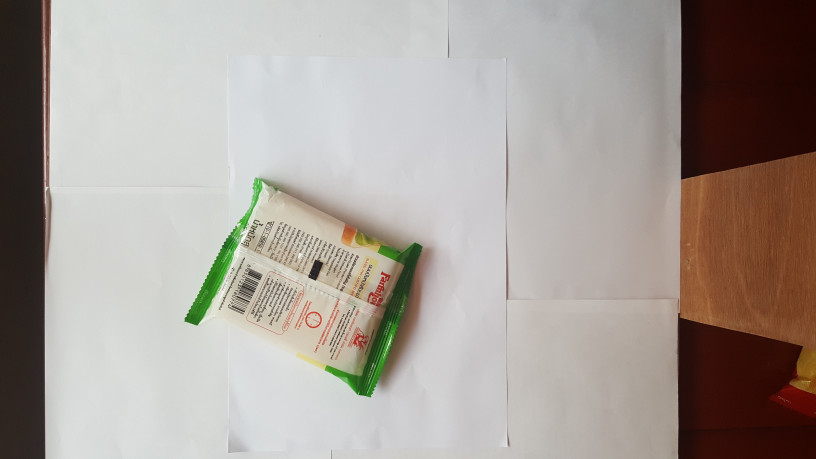farmhouse-bread-pandan: (179, 172, 428, 402)
